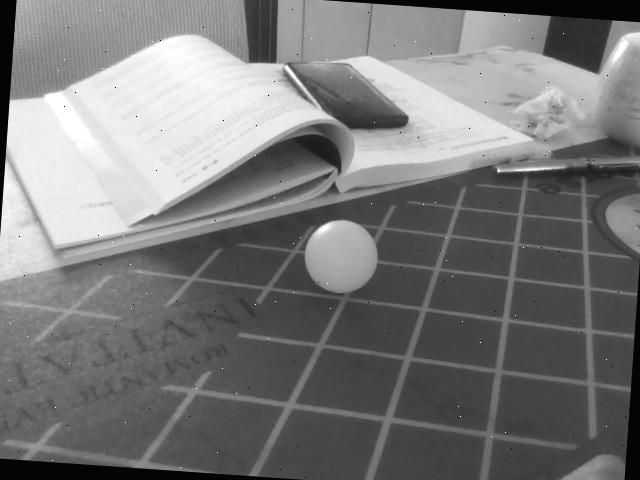ball: (302, 218, 378, 296)
